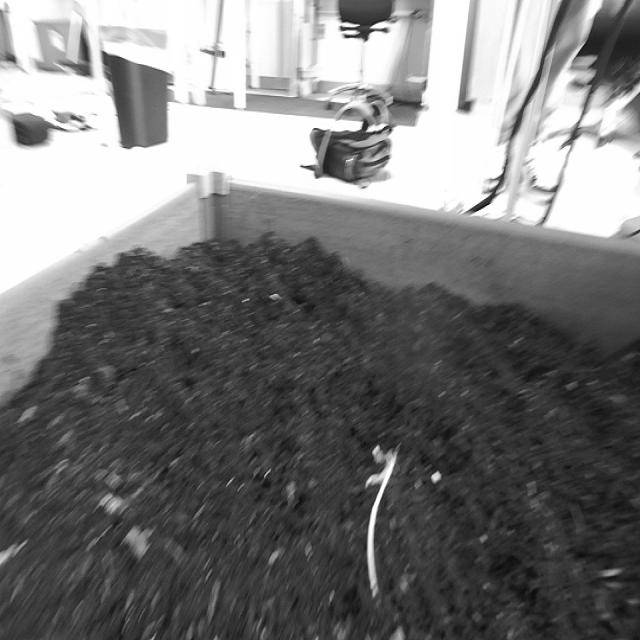Unhealthy: (360, 439, 402, 602)
